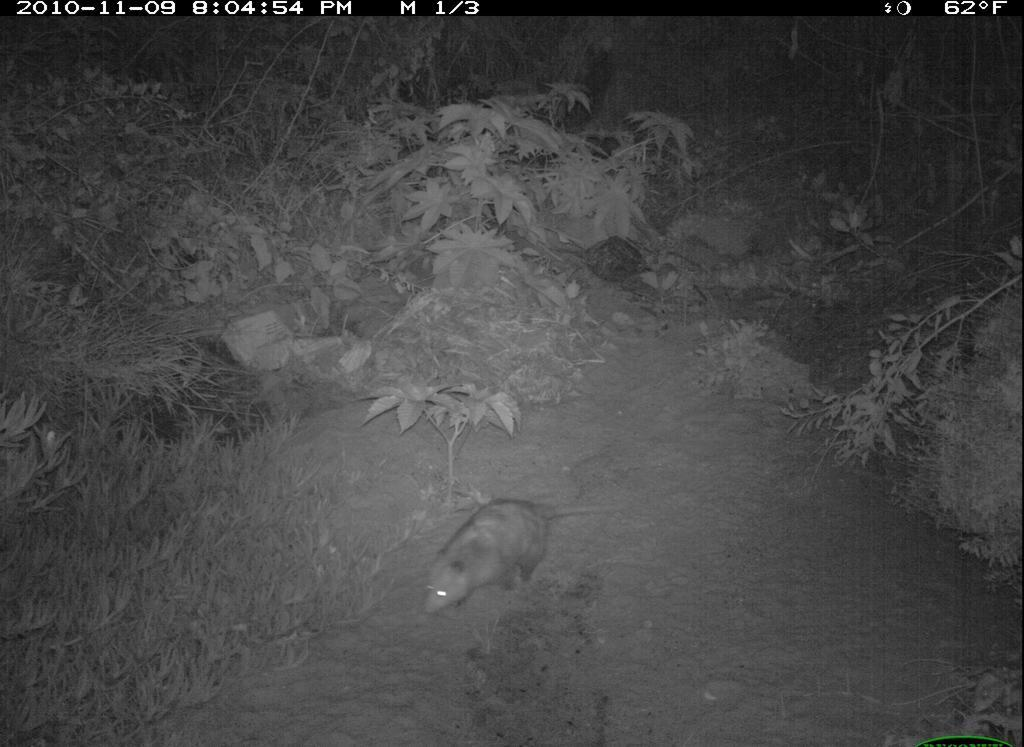opossum: (404, 477, 610, 629)
